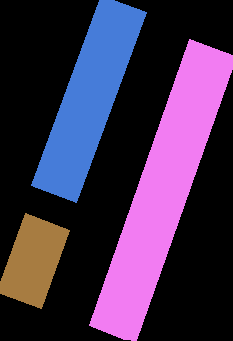parkingspot: (89, 39, 233, 340), (31, 0, 146, 202), (0, 213, 69, 308)
